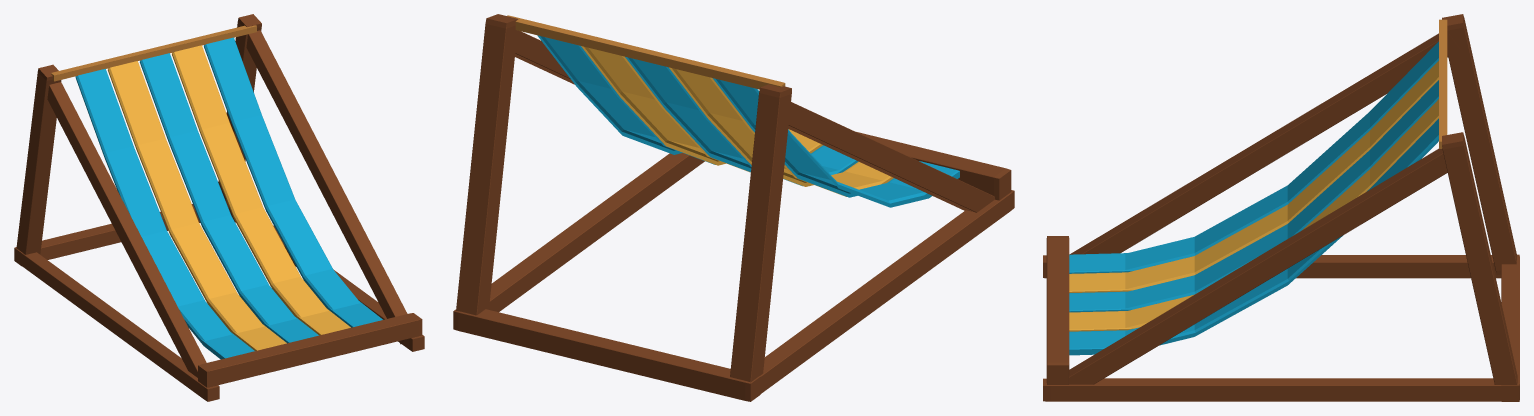
The model's file is BeachChair.glb.
3 views of the same model, side by side, from view 1: azimuth 30°, elevation 25°; view 2: azimuth 150°, elevation 25°; view 3: azimuth 270°, elevation 25° (orthographic). The views are drawn at different scales.
Visible parts, largest first — view 1: BeachChair_FabricStripeCream04, BeachChair_FabricStripeBlue05, BeachChair_FabricStripeCream02, BeachChair_FabricStripeBlue03, BeachChair_FabricStripeBlue01, BeachChair_FrameRight, BeachChair_FrameLeft, BeachChair_FrontCrossbar, BeachChair_GroundRailLeft, BeachChair_BackSupportLeft, BeachChair_BackFabricEdge, BeachChair_RearCrossbar (+2 smaller); view 2: BeachChair_BackSupportRight, BeachChair_BackSupportLeft, BeachChair_RearCrossbar, BeachChair_GroundRailLeft, BeachChair_GroundRailRight, BeachChair_FrameLeft, BeachChair_FabricStripeBlue03, BeachChair_FabricStripeBlue01, BeachChair_FabricStripeCream04, BeachChair_FabricStripeCream02, BeachChair_FabricStripeBlue05, BeachChair_BackFabricEdge (+2 smaller); view 3: BeachChair_FrameRight, BeachChair_GroundRailRight, BeachChair_FrameLeft, BeachChair_FabricStripeBlue01, BeachChair_FabricStripeCream02, BeachChair_FabricStripeBlue03, BeachChair_BackSupportRight, BeachChair_BackSupportLeft, BeachChair_FabricStripeBlue05, BeachChair_FabricStripeCream04, BeachChair_GroundRailLeft, BeachChair_FrontCrossbar (+2 smaller).
Part boxes in pixels (x1=…): BeachChair_FabricStripeCream04: x1=171, y1=45, x2=350, y2=335; BeachChair_FabricStripeBlue05: x1=203, y1=37, x2=382, y2=327; BeachChair_FabricStripeCream02: x1=107, y1=61, x2=286, y2=350; BeachChair_FabricStripeBlue03: x1=139, y1=53, x2=318, y2=343; BeachChair_FabricStripeBlue01: x1=75, y1=69, x2=254, y2=359; BeachChair_FrameRight: x1=246, y1=30, x2=407, y2=344; BeachChair_FrameLeft: x1=47, y1=82, x2=206, y2=377; BeachChair_FrontCrossbar: x1=198, y1=313, x2=422, y2=387; BeachChair_GroundRailLeft: x1=21, y1=252, x2=219, y2=401; BeachChair_BackSupportLeft: x1=16, y1=64, x2=61, y2=254; BeachChair_BackFabricEdge: x1=51, y1=25, x2=256, y2=81; BeachChair_RearCrossbar: x1=14, y1=204, x2=200, y2=266; BeachChair_BackSupportRight: x1=456, y1=14, x2=518, y2=315; BeachChair_BackSupportLeft: x1=730, y1=84, x2=791, y2=382; BeachChair_RearCrossbar: x1=453, y1=309, x2=760, y2=401; BeachChair_GroundRailLeft: x1=760, y1=190, x2=1014, y2=393; BeachChair_GroundRailRight: x1=489, y1=153, x2=704, y2=312; BeachChair_FrameLeft: x1=788, y1=102, x2=994, y2=212; BeachChair_FabricStripeBlue03: x1=625, y1=56, x2=858, y2=186; BeachChair_FabricStripeBlue01: x1=712, y1=78, x2=959, y2=207; BeachChair_FabricStripeCream04: x1=581, y1=46, x2=822, y2=172; BeachChair_FabricStripeCream02: x1=669, y1=67, x2=893, y2=196; BeachChair_FabricStripeBlue05: x1=537, y1=35, x2=715, y2=164; BeachChair_BackFabricEdge: x1=507, y1=15, x2=785, y2=89; BeachChair_FrameRight: x1=1069, y1=148, x2=1447, y2=384; BeachChair_GroundRailRight: x1=1043, y1=378, x2=1501, y2=401; BeachChair_FrameLeft: x1=1069, y1=33, x2=1460, y2=254; BeachChair_FabricStripeBlue01: x1=1069, y1=41, x2=1438, y2=273; BeachChair_FabricStripeCream02: x1=1069, y1=61, x2=1438, y2=292; BeachChair_FabricStripeBlue03: x1=1069, y1=80, x2=1438, y2=312; BeachChair_BackSupportRight: x1=1442, y1=132, x2=1517, y2=384; BeachChair_BackSupportLeft: x1=1442, y1=14, x2=1516, y2=275; BeachChair_FabricStripeBlue05: x1=1069, y1=118, x2=1438, y2=355; BeachChair_FabricStripeCream04: x1=1069, y1=99, x2=1438, y2=331; BeachChair_GroundRailLeft: x1=1043, y1=255, x2=1501, y2=278; BeachChair_FrontCrossbar: x1=1046, y1=236, x2=1069, y2=384.
Size of the model in its own units: 1.66 by 1.54 by 2.55.
